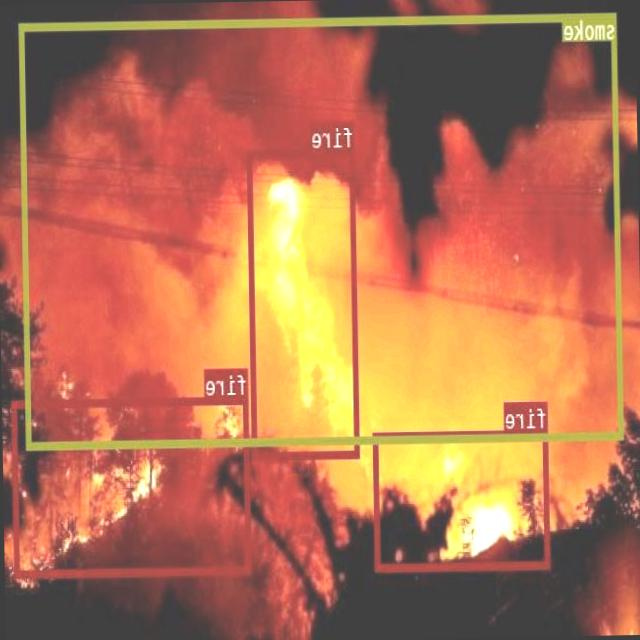fire: (12, 395, 252, 577), (248, 148, 360, 458), (374, 428, 550, 569)
smoke: (19, 11, 624, 448)
